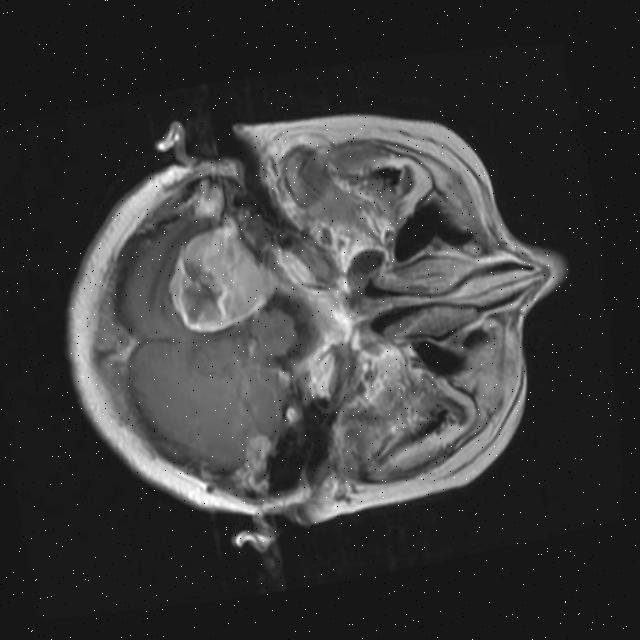Meningioma: (156, 216, 288, 343)
